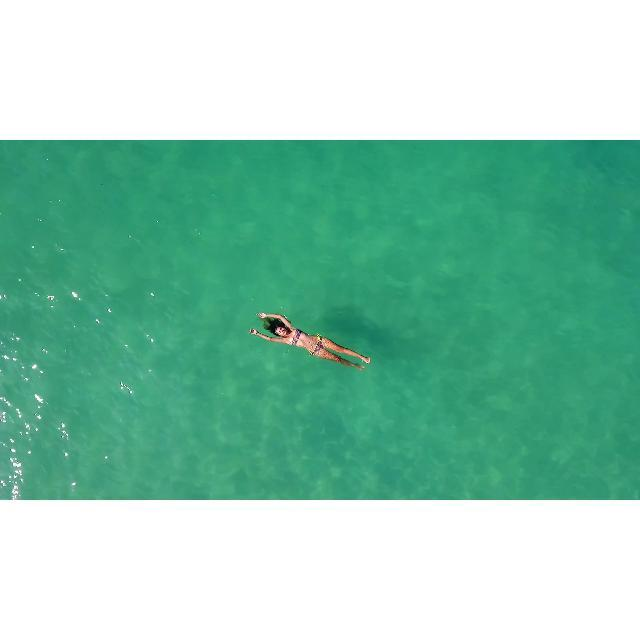human: (249, 311, 372, 371)
